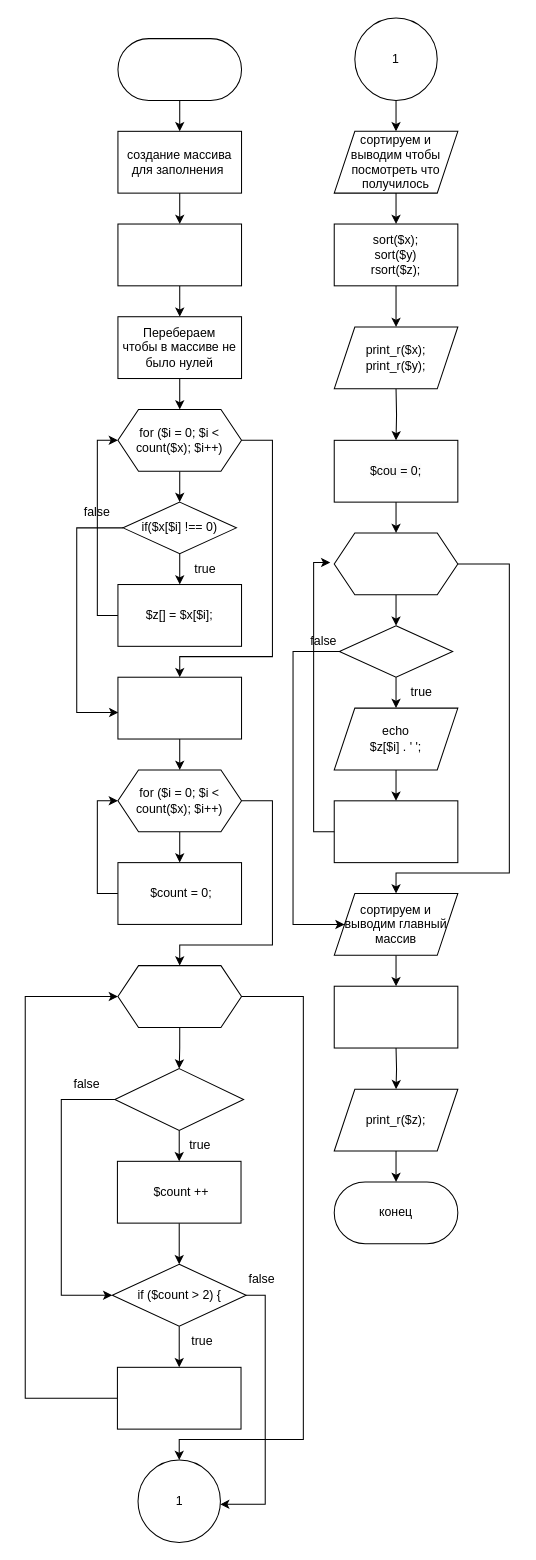
The diagram is 536 pixels wide and 1560 high, and some of its shapes have lost their labels. Here are the shapes that lost their labels. From the top down, the centre of each, then its label:
At point (179, 69): "начало".
At point (179, 254): "$x = [1, 7, 3, 8, 43, 0, 21, 23, 25]; $y = [9, 3, 1, 2, 4, 8]; $z = [];".
At point (395, 563): "for ($i = 0; $i < count($z); $i++)".
At point (395, 651): "if($z[$i]%2 == 1 && $cou !== 5)".
At point (179, 707): "Перебор для нахождение составных чисел".
At point (395, 831): "$cou++".
At point (179, 996): "for ($b = 1; $b <= $y[$i]; $b++)".
At point (395, 1016): "sort($z)".
At point (179, 1099): "if ($y[$i] % $b === 0)".
At point (178, 1397): "$z[] = $y[$i];".
